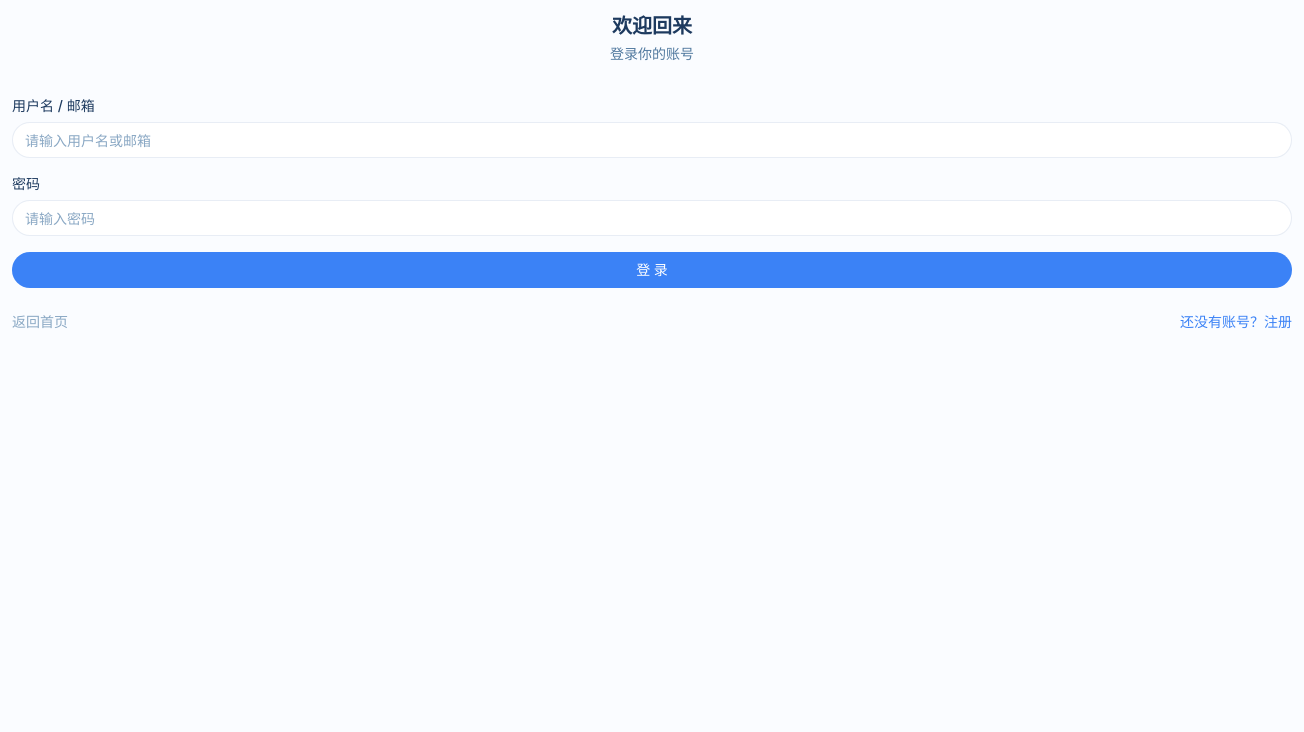
Test: LoginPage › 登录失败显示错误提示
In the field labelled "用户名 / 邮箱": (652, 140) [12, 122, 1292, 158], type "tester"
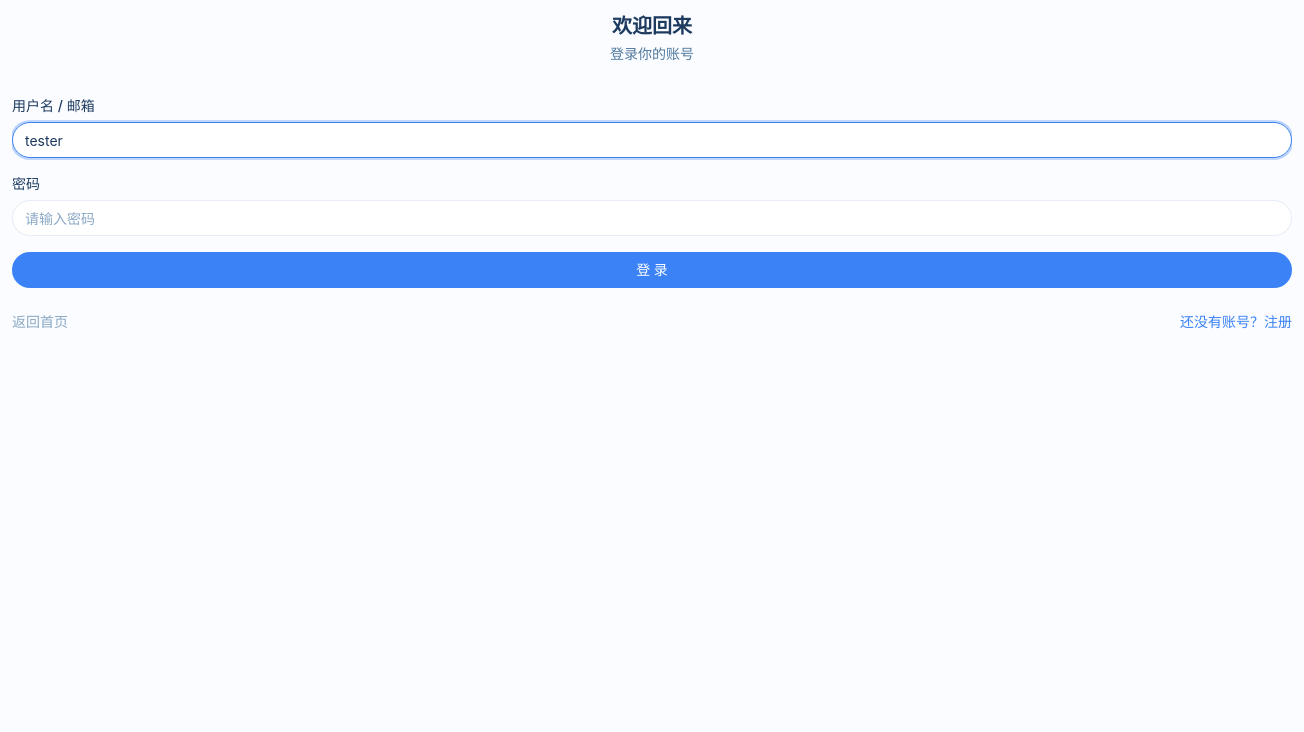
In the password field labelled "密码": (652, 218) [12, 200, 1292, 236], type "wrongpass1"
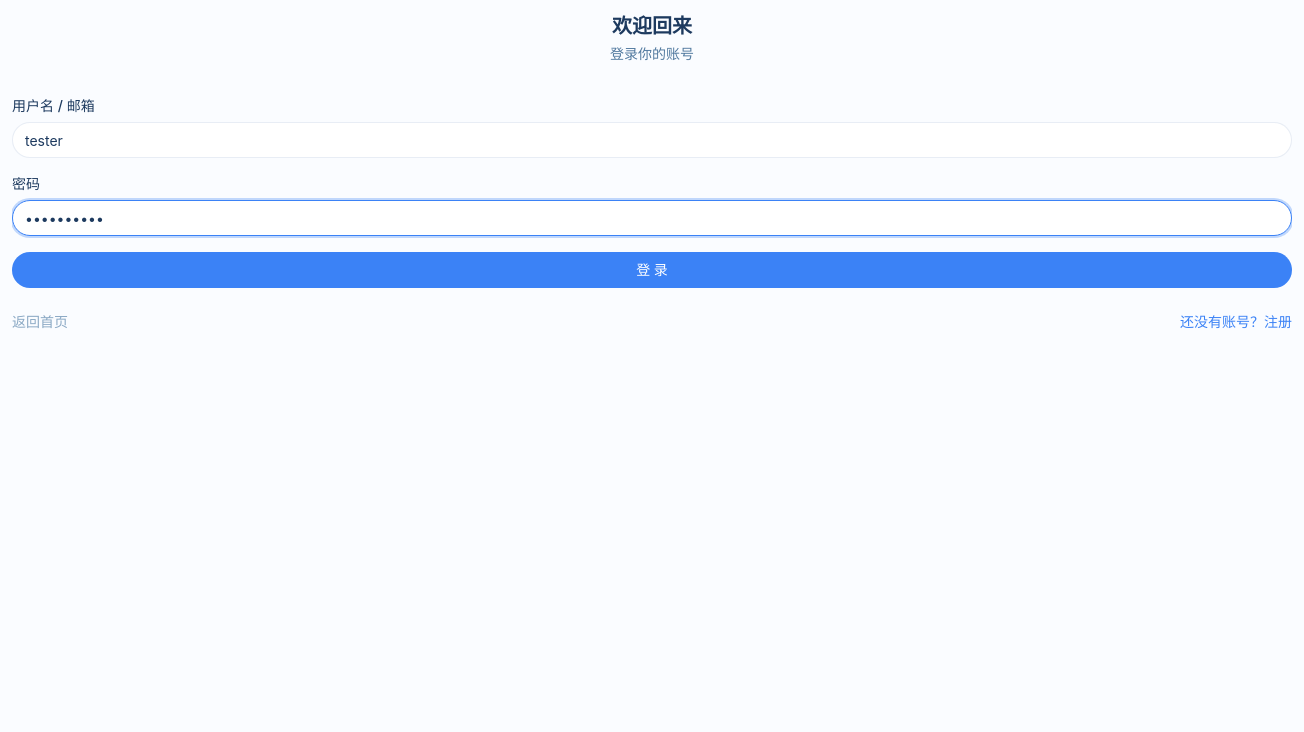
Click the button "登 录": (652, 270) [12, 252, 1292, 288]
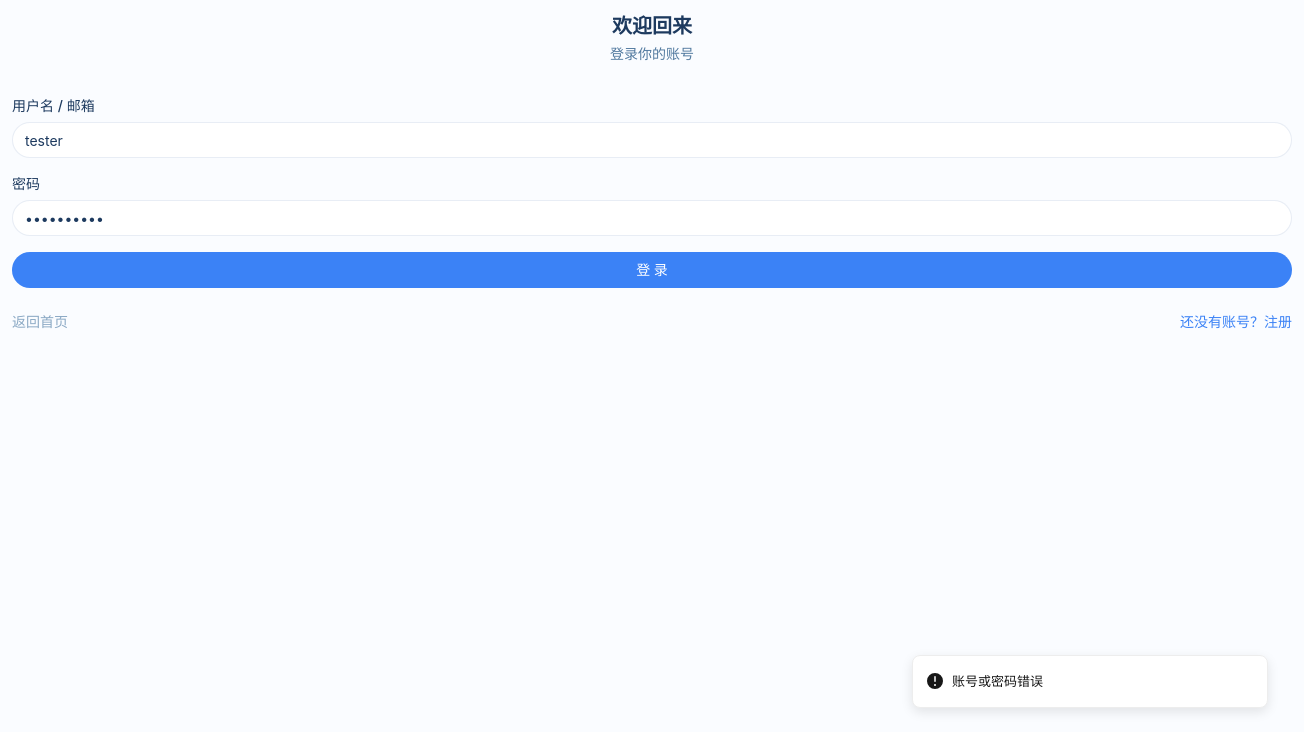
Check: the text "账号或密码错误" is shown, box [952, 672, 1043, 691]
